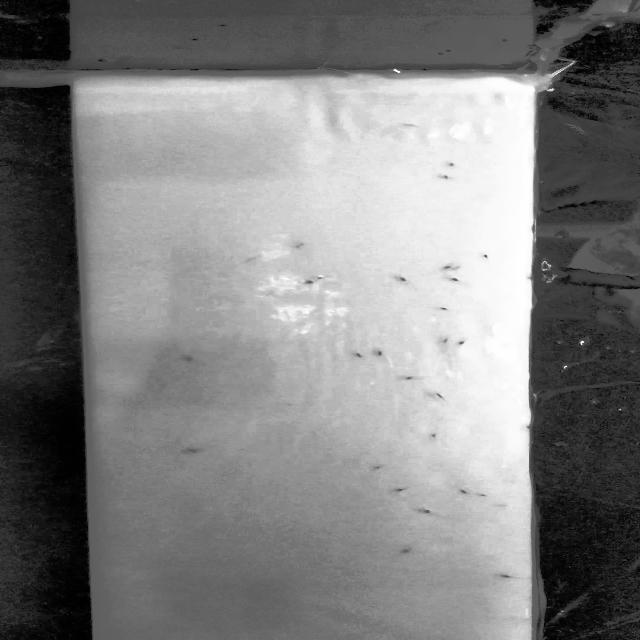shrimp: (314, 274, 335, 285), (450, 264, 473, 274), (368, 462, 388, 473), (457, 337, 472, 351), (494, 571, 515, 581), (389, 273, 408, 284), (180, 354, 197, 366), (476, 489, 490, 503), (430, 388, 446, 400), (349, 349, 365, 361), (398, 372, 415, 382), (422, 506, 436, 518), (183, 447, 203, 455), (299, 278, 315, 288), (458, 484, 471, 496), (426, 431, 440, 442), (394, 485, 409, 495), (438, 336, 452, 346), (450, 276, 463, 286), (400, 546, 413, 556), (372, 349, 390, 356), (438, 262, 452, 271), (482, 253, 494, 262), (439, 304, 448, 312)
